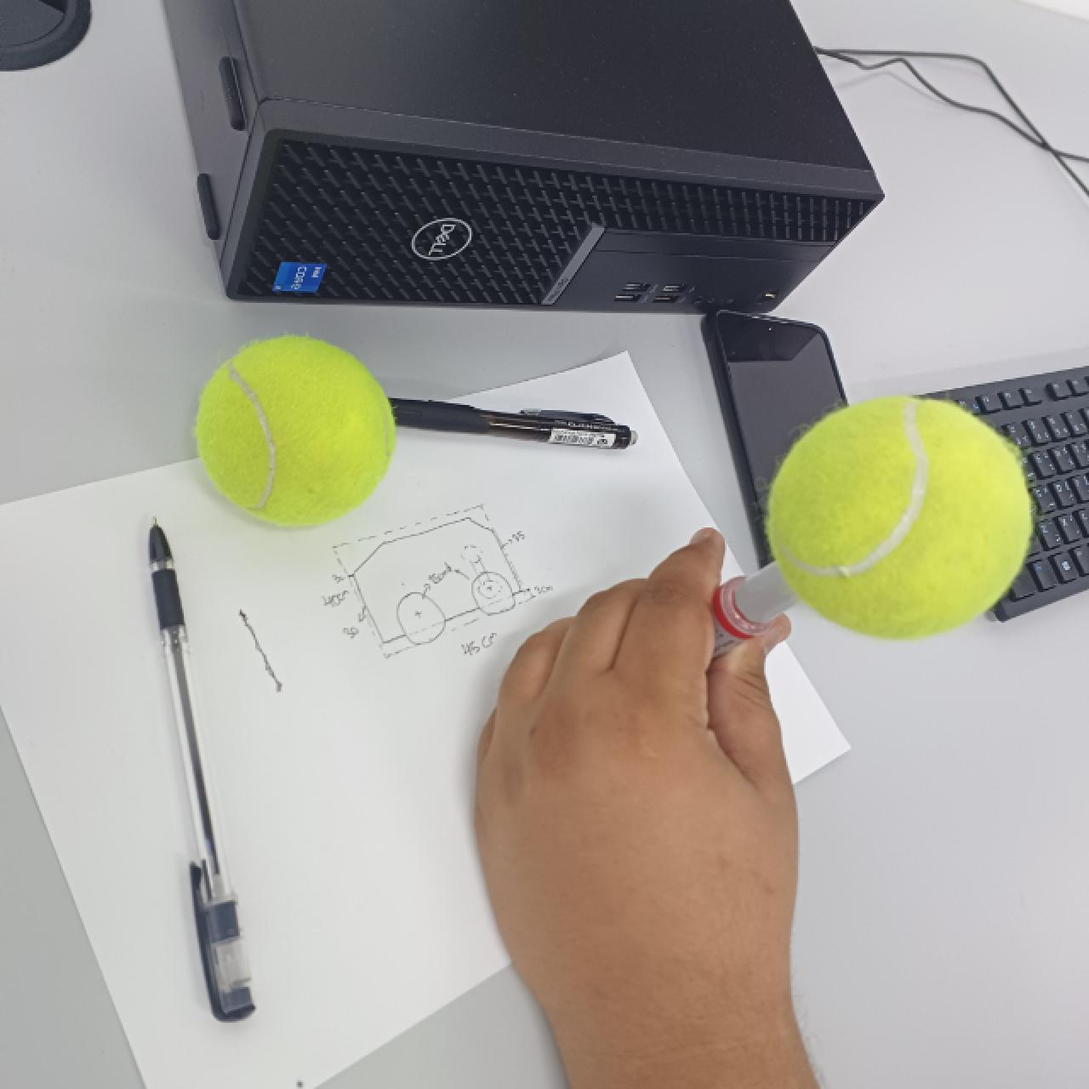tennis-ball: (763, 394, 1032, 640), (194, 331, 398, 527)
